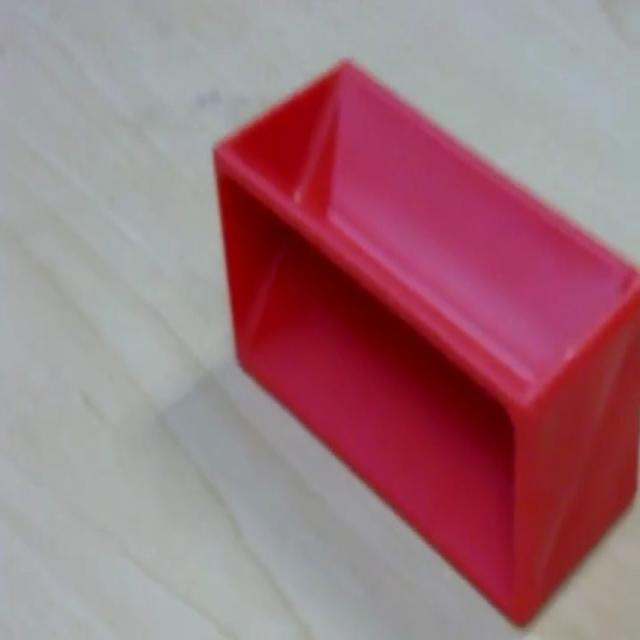red_block: (211, 55, 638, 625)
